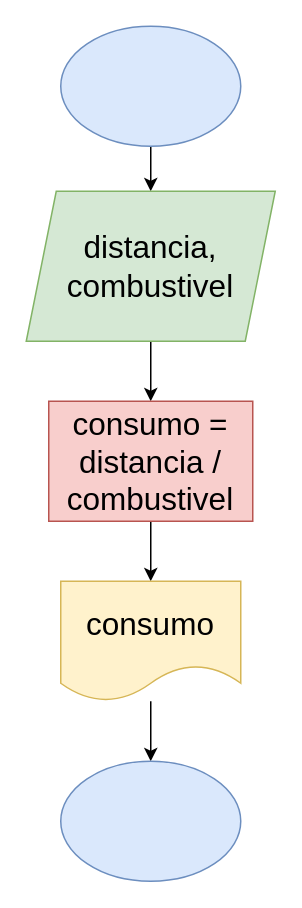
Image size: 302x908. Some labels were removed from this diagram. The shapes that lost their labels are listed below. From the top down, each one's centre as x and y in pixels, then its label:
(x=150, y=85): inicio
(x=150, y=820): fim
